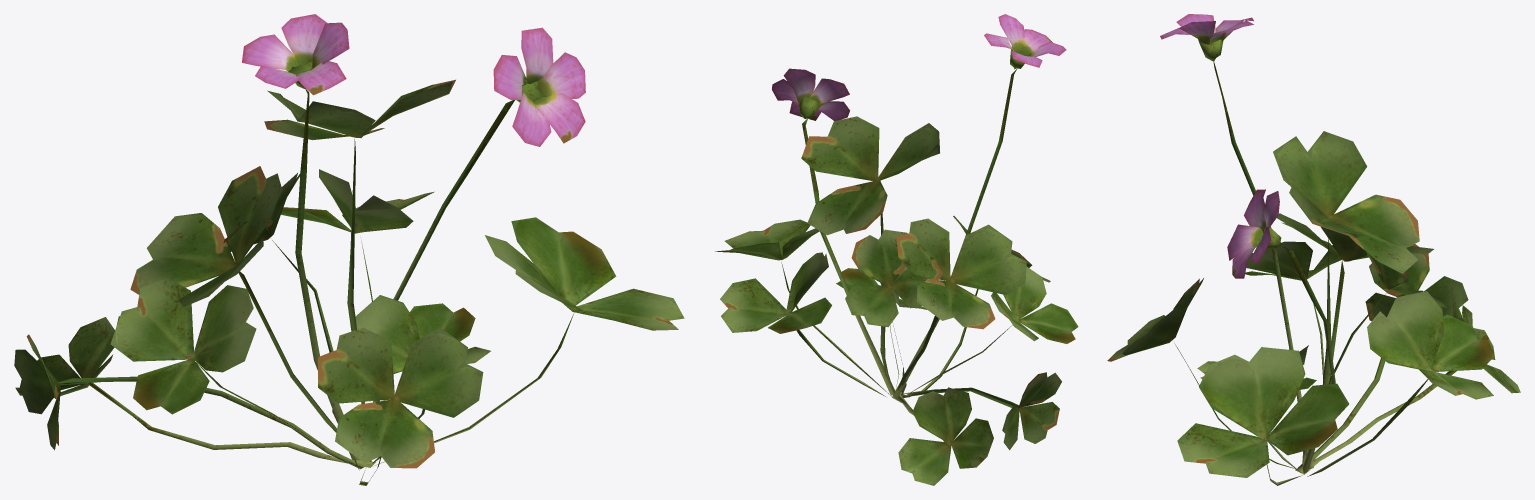
Rendered from flower_clover.glb.
The picture shows the model from 3 angles, left to right: view 1: azimuth 30°, elevation 25°; view 2: azimuth 150°, elevation 25°; view 3: azimuth 270°, elevation 25°; orthographic projection. The views are drawn at different scales.
Visible parts, largest first — view 1: shrub_sorrel_01_d; view 2: shrub_sorrel_01_d; view 3: shrub_sorrel_01_d.
Part boxes in pixels (left/top/right/bottom): shrub_sorrel_01_d: left=14, top=14, right=684, bottom=485; shrub_sorrel_01_d: left=715, top=14, right=1078, bottom=485; shrub_sorrel_01_d: left=1107, top=14, right=1520, bottom=485.
Bounding box in the file's own units: 0.3919 × 0.35 × 0.3131.
Materials: 1 (1 with a texture image).
